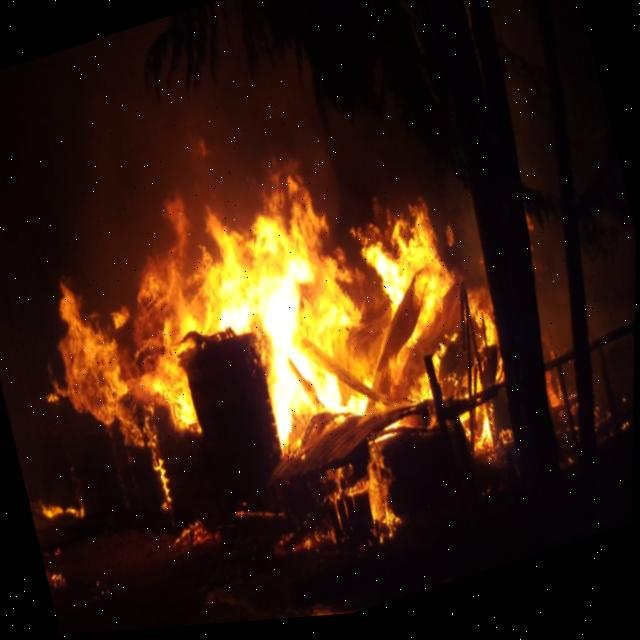fire: (133, 181, 362, 448), (59, 282, 129, 427), (353, 205, 441, 314), (394, 290, 461, 404), (346, 312, 393, 388)
smoke: (0, 18, 487, 503), (488, 0, 558, 201), (549, 0, 609, 202), (584, 233, 637, 345)
